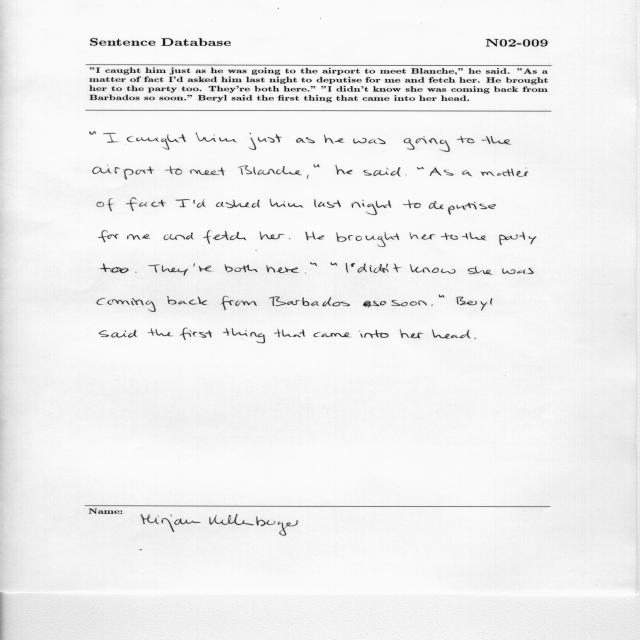word: (127, 134, 186, 150), (429, 201, 496, 215), (337, 232, 399, 247), (93, 165, 154, 180), (97, 298, 156, 312), (269, 297, 350, 307), (404, 136, 450, 152), (238, 166, 302, 176), (223, 328, 265, 343), (203, 230, 246, 244), (352, 200, 391, 215), (249, 133, 282, 150), (457, 296, 493, 311), (126, 198, 166, 211), (220, 296, 257, 310), (499, 232, 536, 245), (410, 264, 456, 274), (149, 265, 188, 276), (481, 168, 528, 177), (196, 133, 237, 143), (432, 329, 471, 339), (180, 328, 212, 340), (167, 296, 208, 305), (216, 200, 260, 208), (363, 167, 401, 176), (369, 263, 401, 273), (99, 330, 137, 338), (270, 199, 303, 208), (100, 263, 129, 273), (190, 168, 225, 176), (225, 264, 258, 272), (482, 136, 511, 145), (267, 265, 299, 273), (274, 330, 305, 338), (314, 199, 341, 208), (99, 231, 119, 243), (359, 330, 389, 338), (259, 231, 284, 240), (97, 198, 114, 211), (430, 167, 454, 176), (468, 266, 492, 275), (391, 300, 427, 306), (164, 233, 194, 240), (346, 263, 367, 273), (410, 232, 436, 240), (400, 329, 423, 338), (324, 134, 344, 144), (148, 329, 173, 337), (353, 138, 386, 144), (462, 233, 486, 241), (502, 268, 534, 274), (314, 332, 351, 337), (193, 263, 212, 272), (336, 165, 353, 175), (363, 301, 386, 308), (103, 133, 119, 143), (165, 166, 182, 175), (305, 232, 324, 240), (403, 200, 421, 208), (127, 234, 150, 240), (176, 199, 190, 208), (457, 136, 474, 143), (441, 233, 458, 240), (193, 199, 206, 208), (296, 137, 315, 143), (462, 171, 472, 177), (310, 262, 317, 266), (90, 131, 96, 135), (314, 165, 320, 168), (331, 263, 337, 266), (439, 295, 444, 298), (417, 167, 424, 169), (307, 175, 309, 179), (431, 304, 433, 306), (289, 238, 290, 240), (305, 272, 306, 274), (474, 338, 476, 339), (406, 175, 407, 175), (135, 272, 136, 272)
